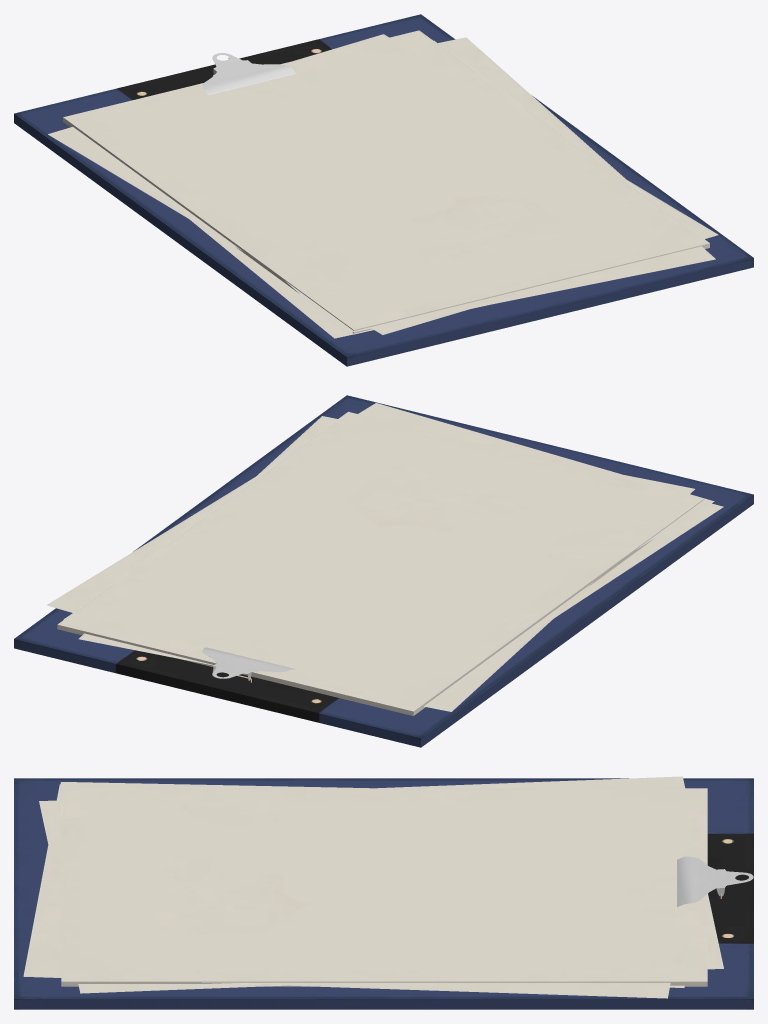
The model's file is clipboard.glb.
The picture shows the model from 3 angles, top to bottom: view 1: azimuth 30°, elevation 25°; view 2: azimuth 150°, elevation 25°; view 3: azimuth 270°, elevation 25°; orthographic projection. The views are drawn at different scales.
Parts seen in each view (by area): view 1: Clipboard_low_ClipBoard_0; view 2: Clipboard_low_ClipBoard_0; view 3: Clipboard_low_ClipBoard_0.
Part boxes in pixels (x1,y1,x2,y2): Clipboard_low_ClipBoard_0: (14, 14, 753, 366); Clipboard_low_ClipBoard_0: (14, 395, 753, 747); Clipboard_low_ClipBoard_0: (14, 776, 753, 1009).
Size of the model in its own units: 0.2367 by 0.0109 by 0.33.
Materials: 1 (1 with a texture image).
